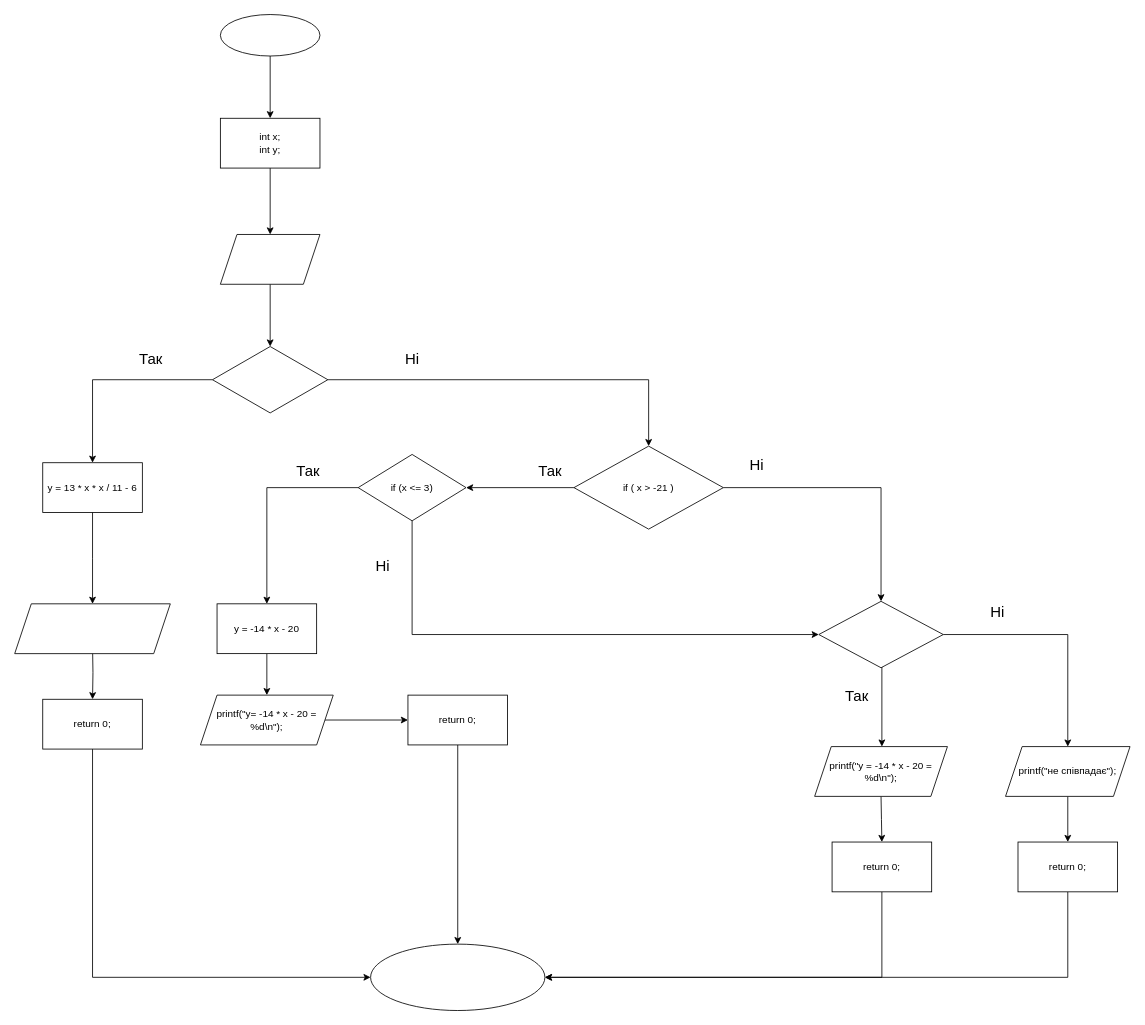
Image size: 1145x1025. Some labels were removed from this diagram. Each missing label, with the centre of its shape:
if (x <= -41);: the point at 270,379
if (x > 12): the point at 880,634
printf("y = 13 * x * x / 11 - 6 = %d\n");: the point at 92,628
scanf("%d", &x);: the point at 270,259
Кінець: the point at 457,977
Начало int(main);: the point at 270,35
